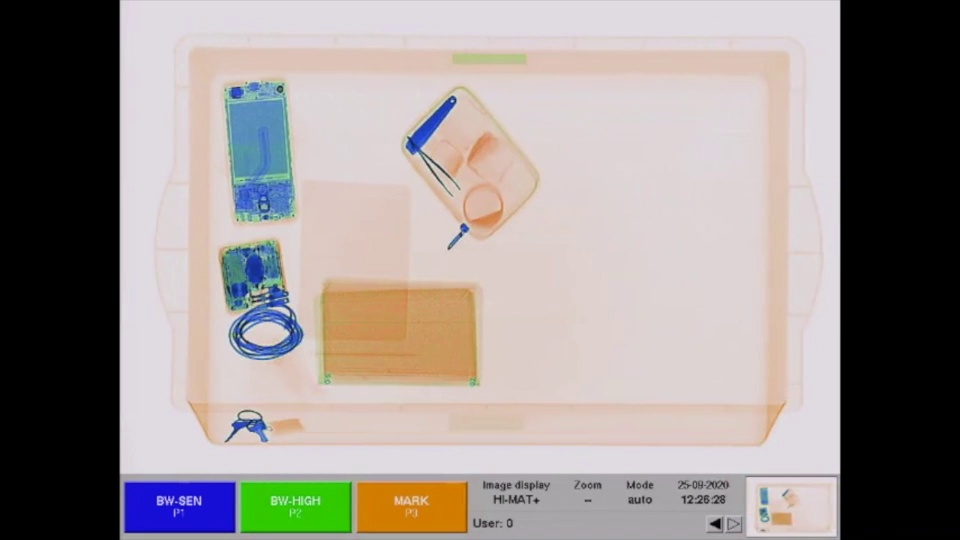tray_img: (151, 25, 827, 454)
